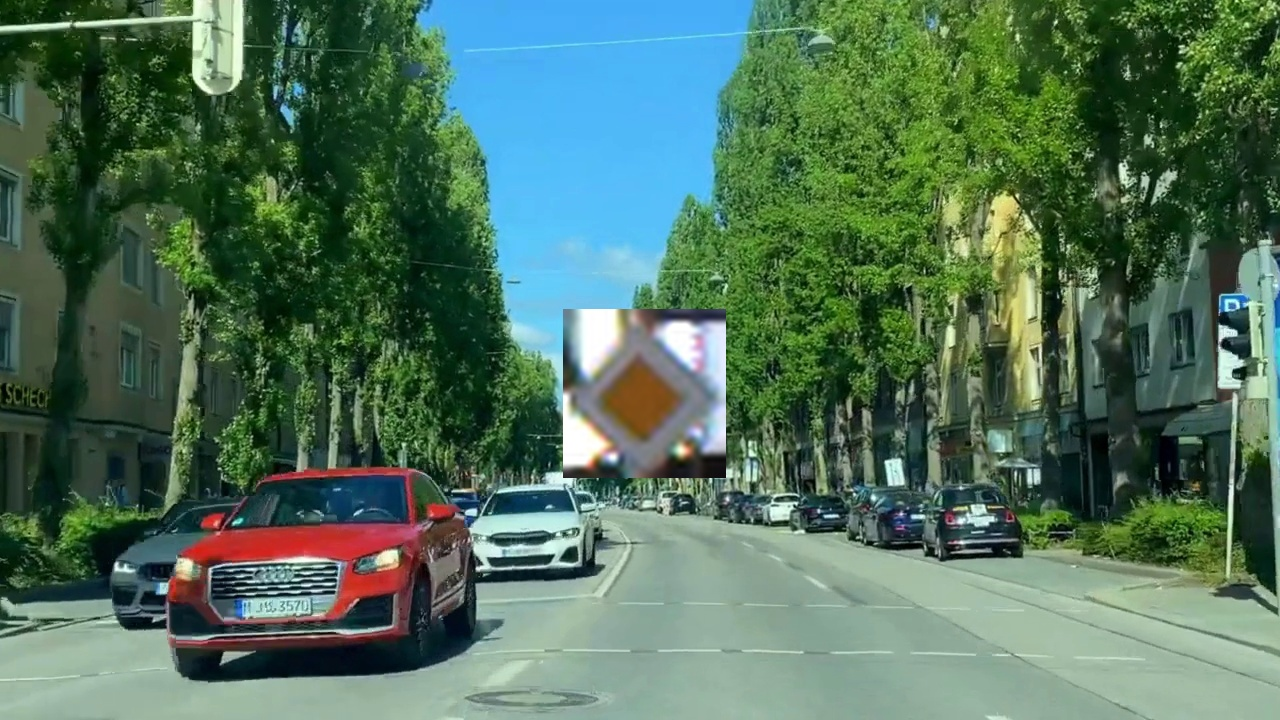Priority road: (563, 309, 726, 478)
